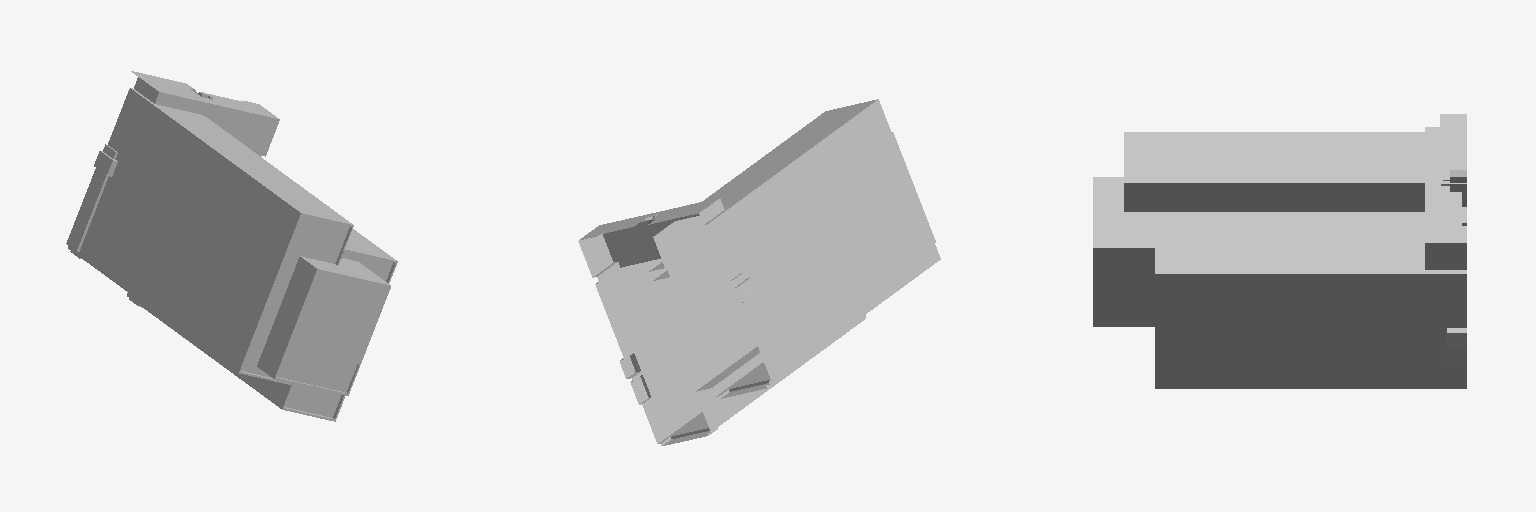
File: 133_Federal.obj
3 views of the same model, side by side, from view 1: azimuth 30°, elevation 25°; view 2: azimuth 150°, elevation 25°; view 3: azimuth 270°, elevation 25° (orthographic).
Parts seen in each view (by area): view 1: Mesh1 G_133_Federal Model; view 2: Mesh1 G_133_Federal Model; view 3: Mesh1 G_133_Federal Model, Mesh2 G_133_Federal Model.
Boxes of the visible parts, x1=… form: Mesh1 G_133_Federal Model: x1=66, y1=77, x2=397, y2=421; Mesh1 G_133_Federal Model: x1=578, y1=99, x2=940, y2=445; Mesh1 G_133_Federal Model: x1=1093, y1=127, x2=1466, y2=388; Mesh2 G_133_Federal Model: x1=1440, y1=114, x2=1466, y2=155.
Size of the model in its own units: 259 by 322 by 435.